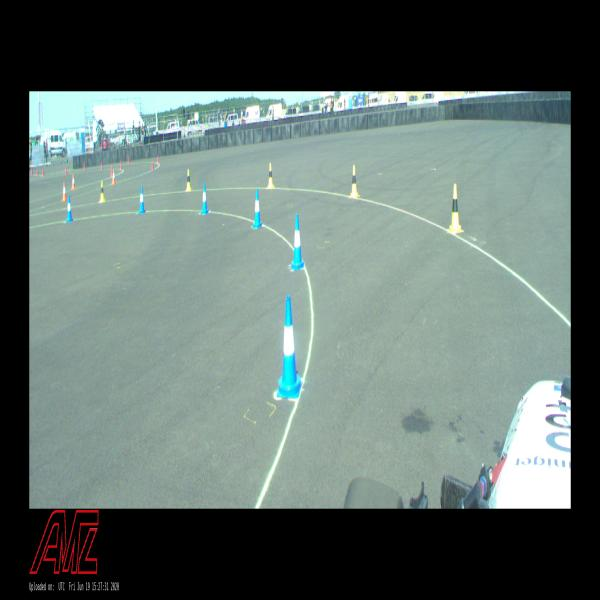blue_cone: (277, 296, 302, 399), (291, 214, 304, 269), (253, 189, 262, 228), (201, 183, 208, 214), (66, 195, 73, 222), (138, 187, 145, 213)
orange_cone: (62, 183, 67, 202), (112, 169, 116, 184), (72, 175, 76, 190)
unknown_cone: (120, 160, 123, 170), (111, 166, 113, 176), (66, 166, 68, 175), (157, 154, 159, 163), (101, 162, 103, 170), (42, 168, 44, 176), (31, 168, 33, 176), (152, 159, 153, 170), (128, 155, 129, 164), (84, 162, 85, 170), (37, 168, 38, 176)
yellow_cone: (448, 184, 462, 233), (351, 165, 358, 196), (267, 163, 275, 188), (186, 169, 192, 190), (100, 182, 105, 202)
